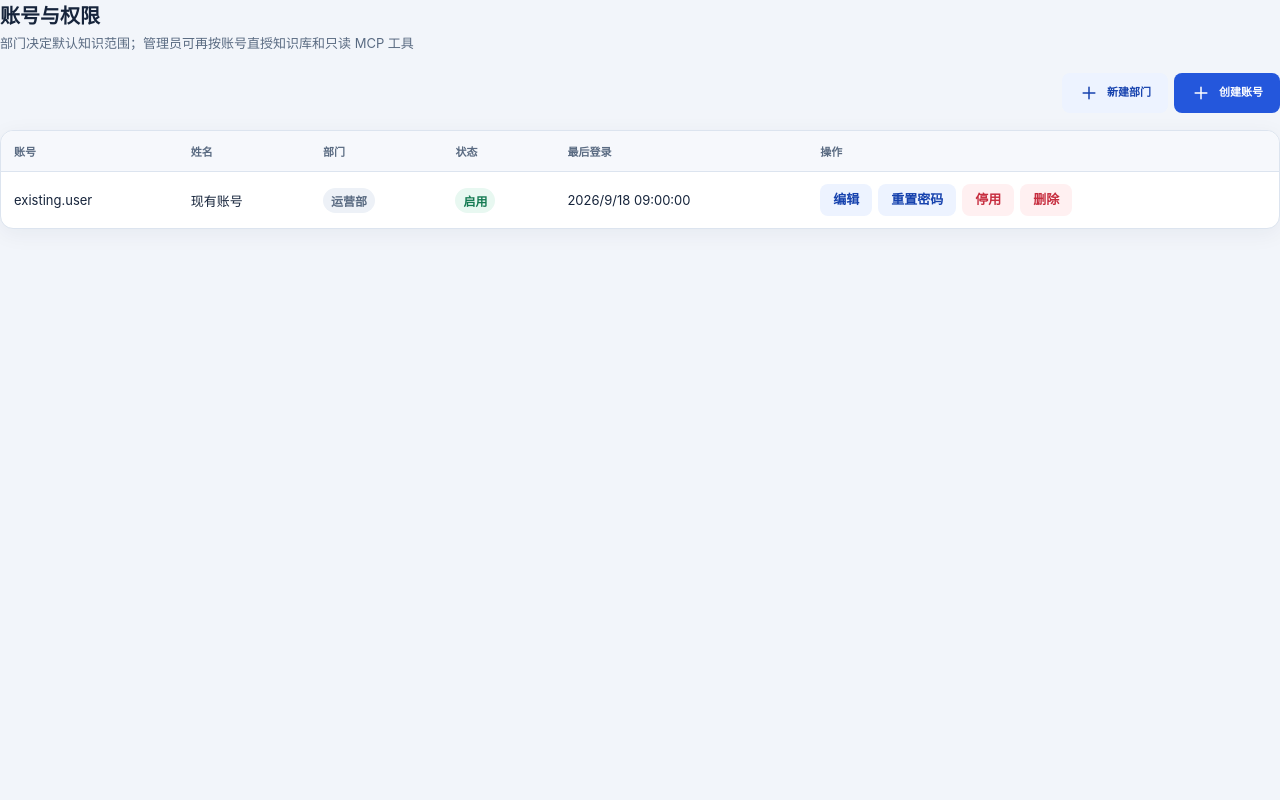
UsersPage temporary password notice › previews inherited knowledge bases when the selected department changes
Check: the text "现有账号" is shown, box x1=178 y1=172 x2=310 y2=228
Click the button "编辑" at (846, 200), box x1=820 y1=184 x2=872 y2=216
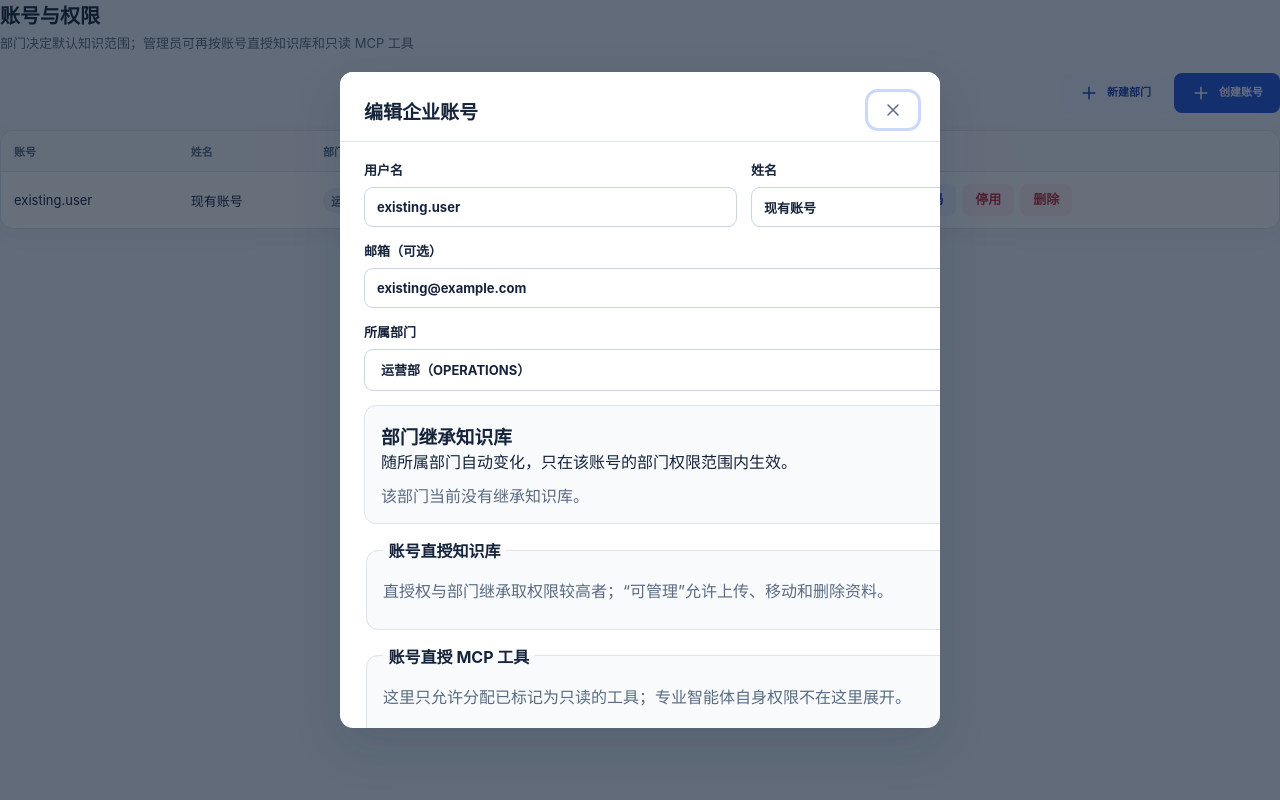
Select "技术部（TECH）" in the dropdown labelled "所属部门" at (744, 370), box x1=364 y1=349 x2=1124 y2=391
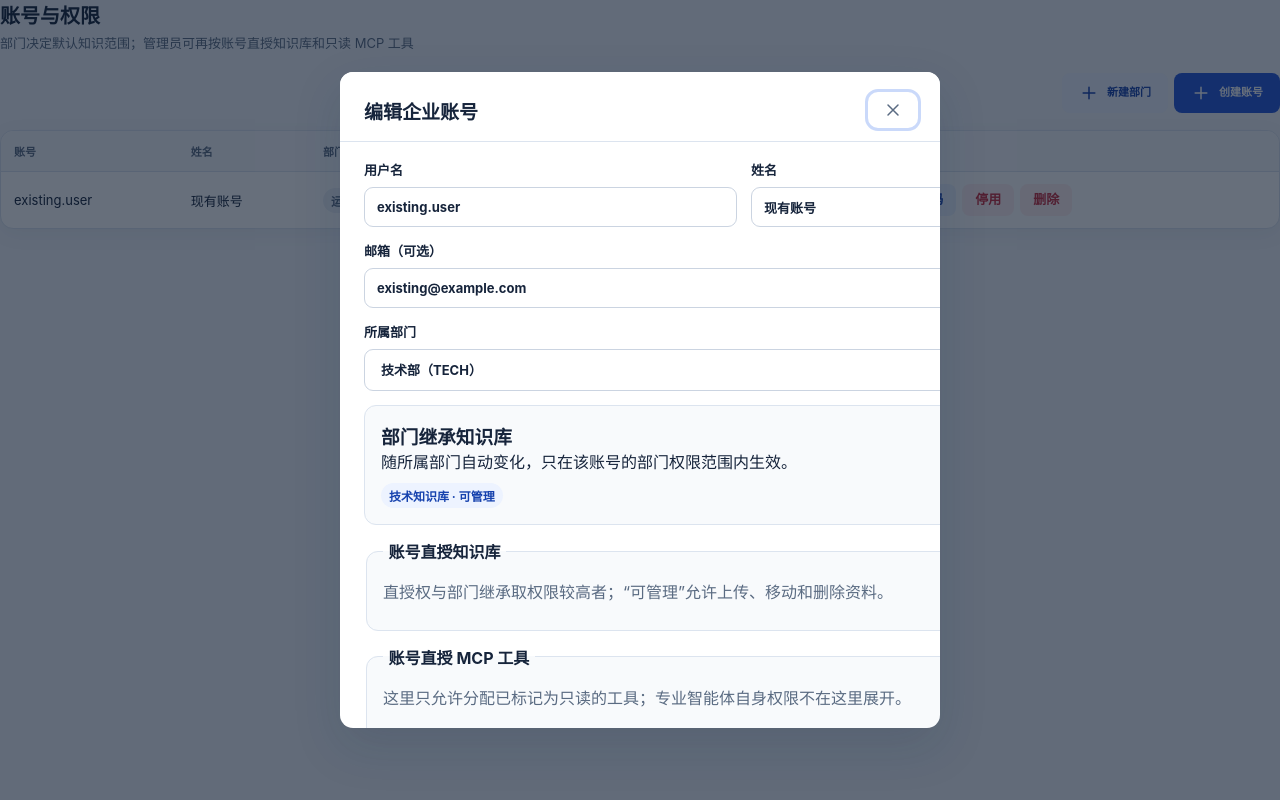
Check: the text "技术知识库 · 可管理" is shown, box x1=381 y1=483 x2=503 y2=508
